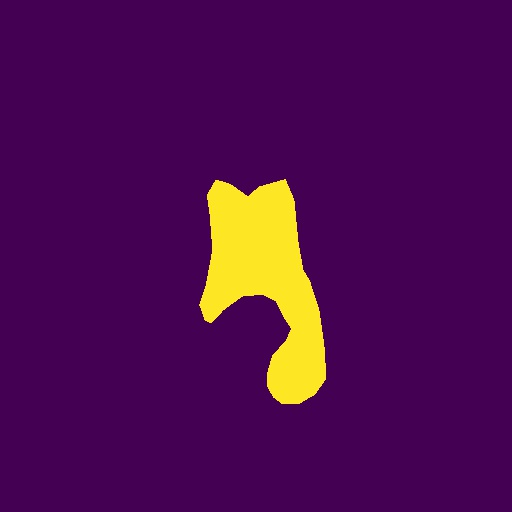Gliomia_tumour: (199, 179, 326, 404)
